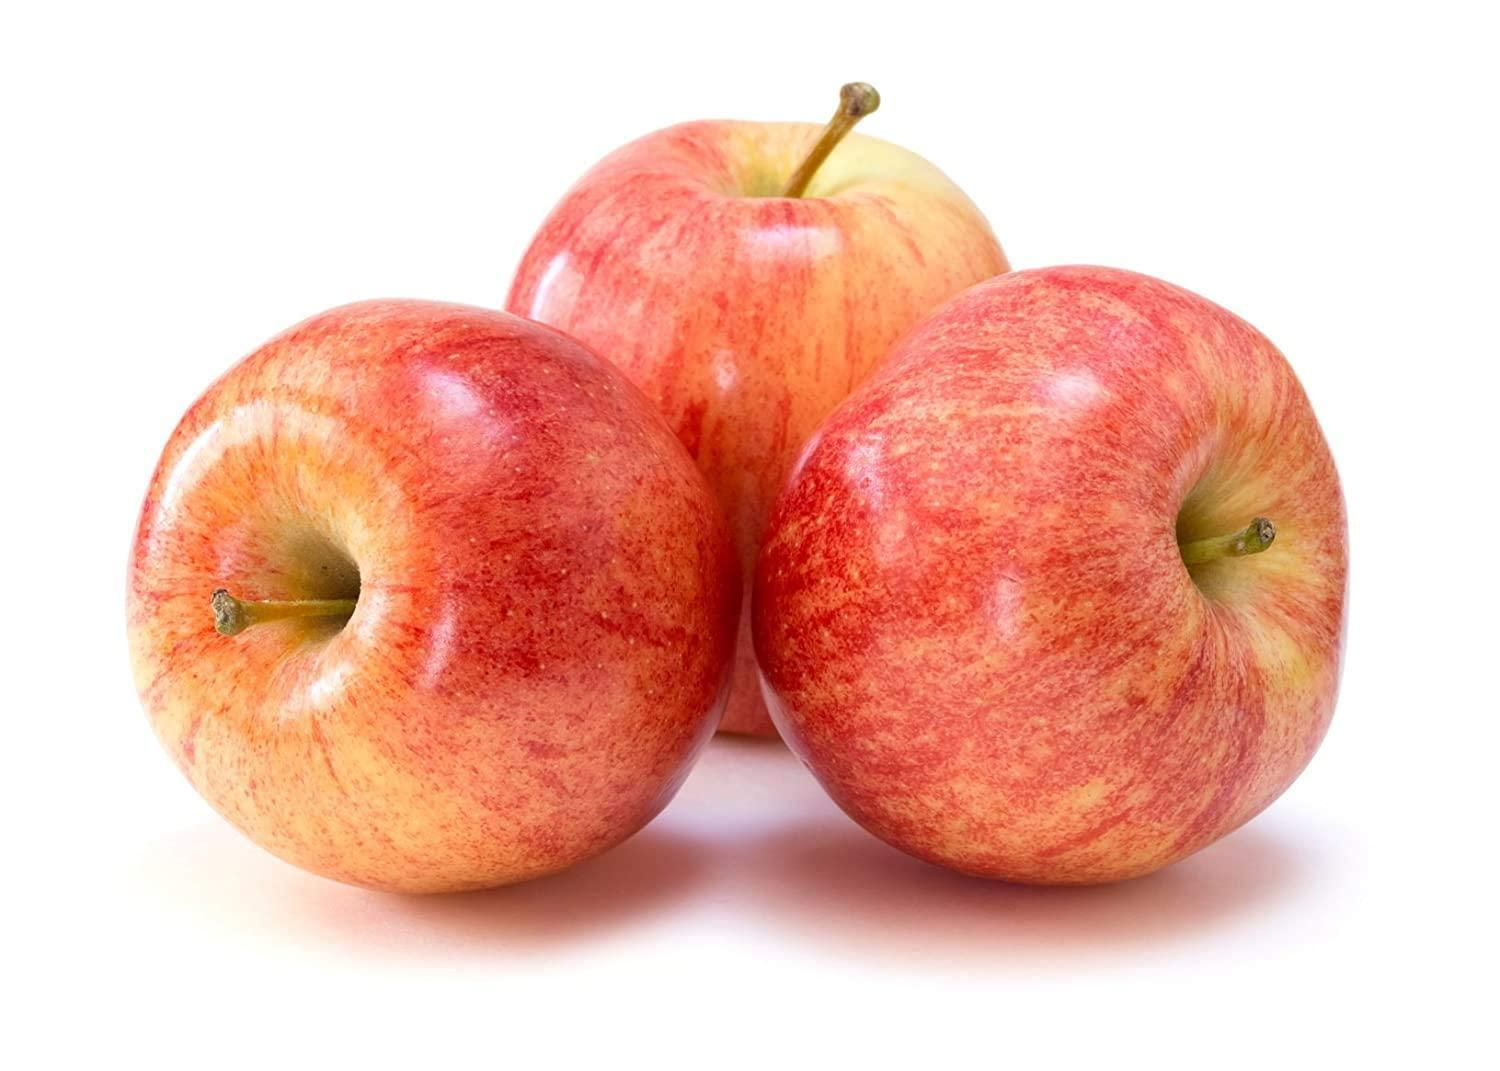Apple: (752, 233, 1371, 937), (105, 283, 743, 918), (480, 81, 1010, 738)
